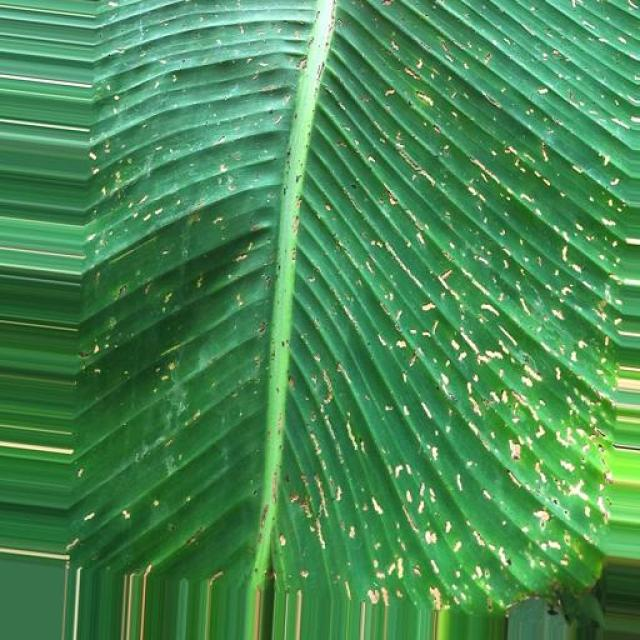Black_rot: (65, 5, 640, 633)
